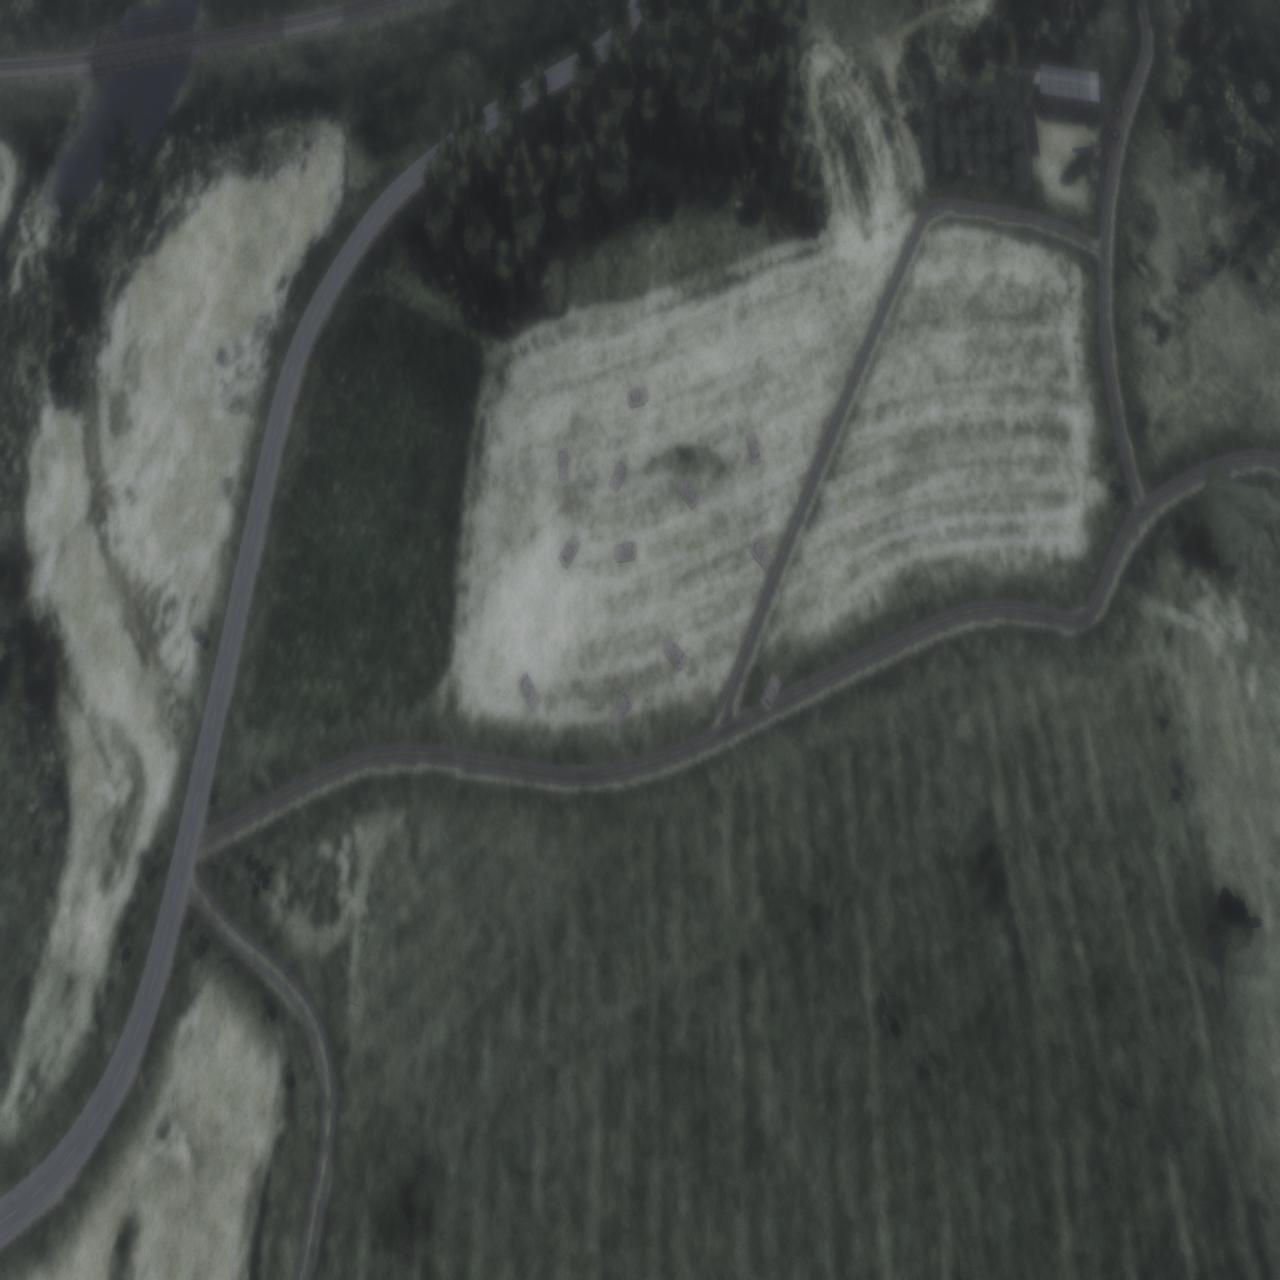MIL_Veh: (749, 535, 776, 573), (608, 688, 633, 730), (661, 635, 687, 672), (518, 670, 542, 710), (558, 535, 581, 572), (760, 673, 782, 712), (678, 475, 701, 510), (610, 458, 628, 496), (744, 430, 762, 468), (627, 386, 648, 411), (612, 544, 638, 563), (557, 449, 570, 483)
